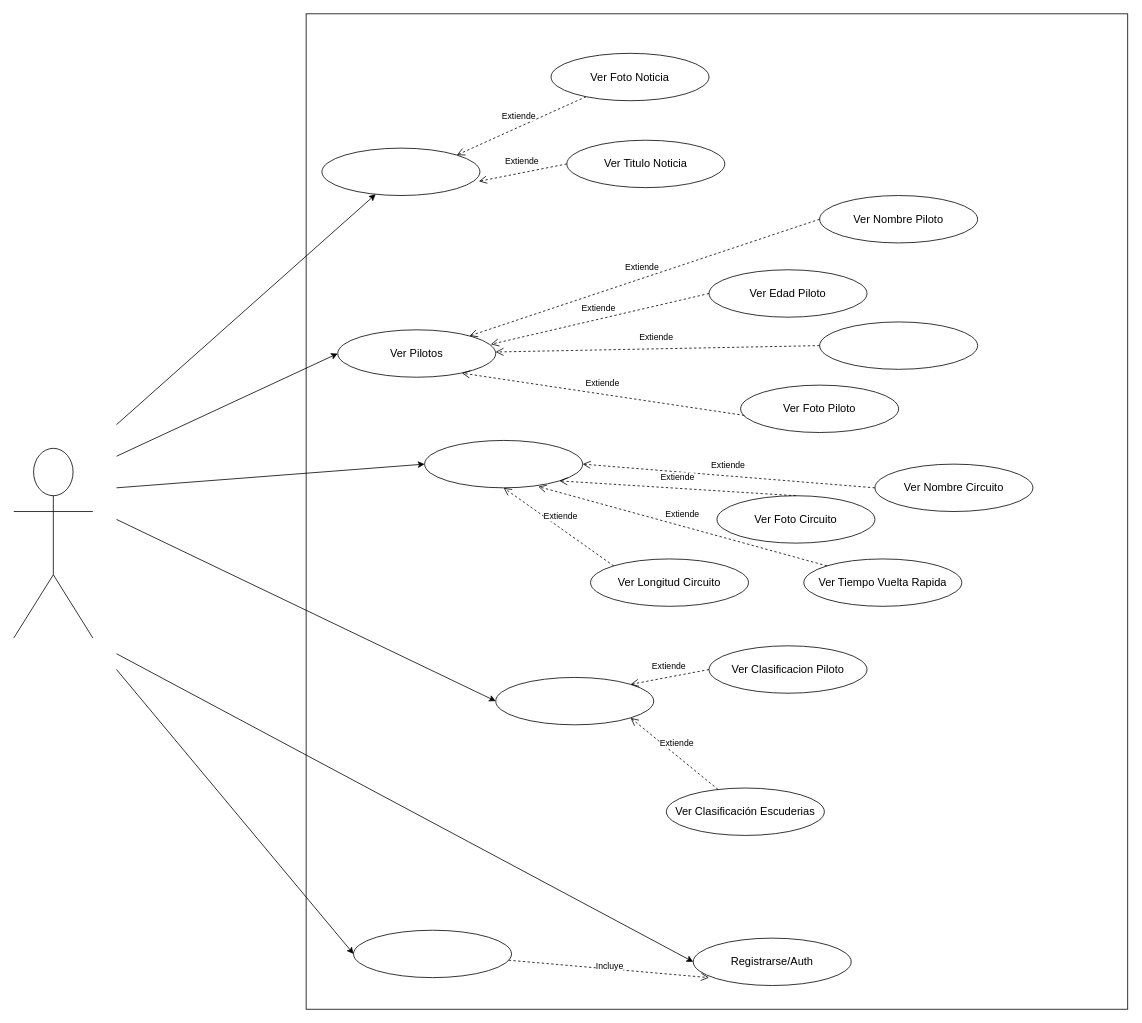
The diagram is 1142 pixels wide and 1023 high, and some of its shapes have lost their labels. The centre of each missing label's shape, as x and y in pixels:
"Login/Auth" belongs at (x=432, y=953).
"Usuario" belongs at (x=53, y=543).
"Ver circuitos" belongs at (x=503, y=464).
"Ver Clasificacion" belongs at (x=574, y=701).
"Ver Escuderia Piloto" belongs at (x=898, y=345).
"Ver Noticias" belongs at (x=400, y=171).
